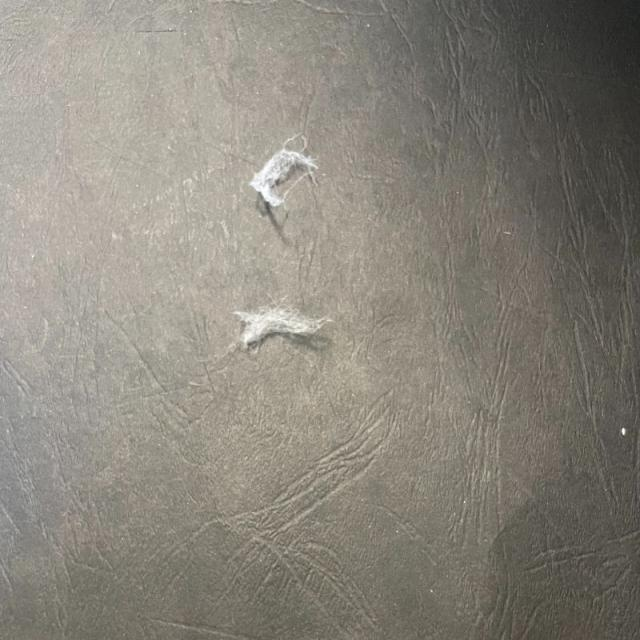feather: (230, 297, 336, 357), (250, 126, 317, 212)
